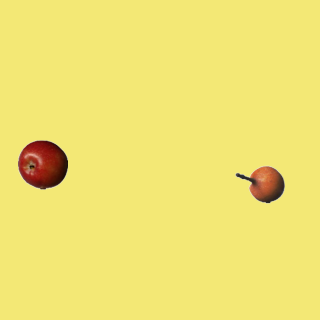Apple Braeburn: (17, 139, 67, 189)
Granadilla: (234, 159, 284, 209)
